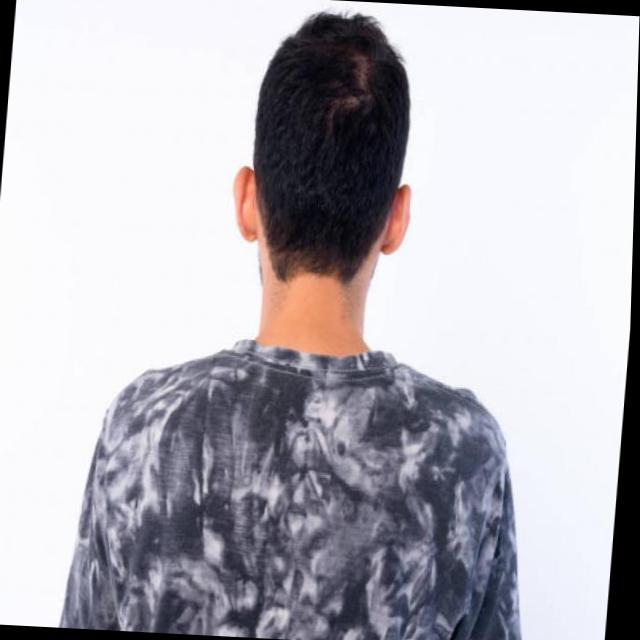no helmet: (230, 10, 427, 314)
